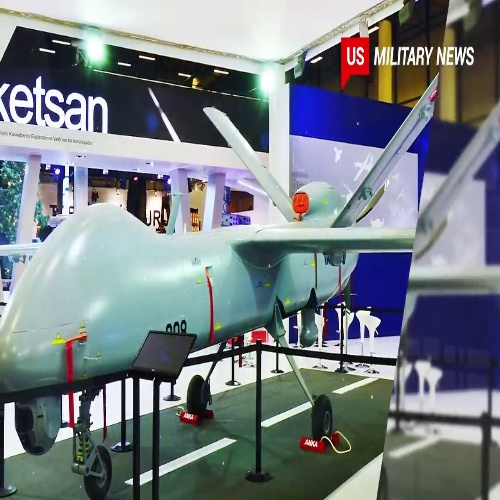uav606: (1, 91, 375, 495)
